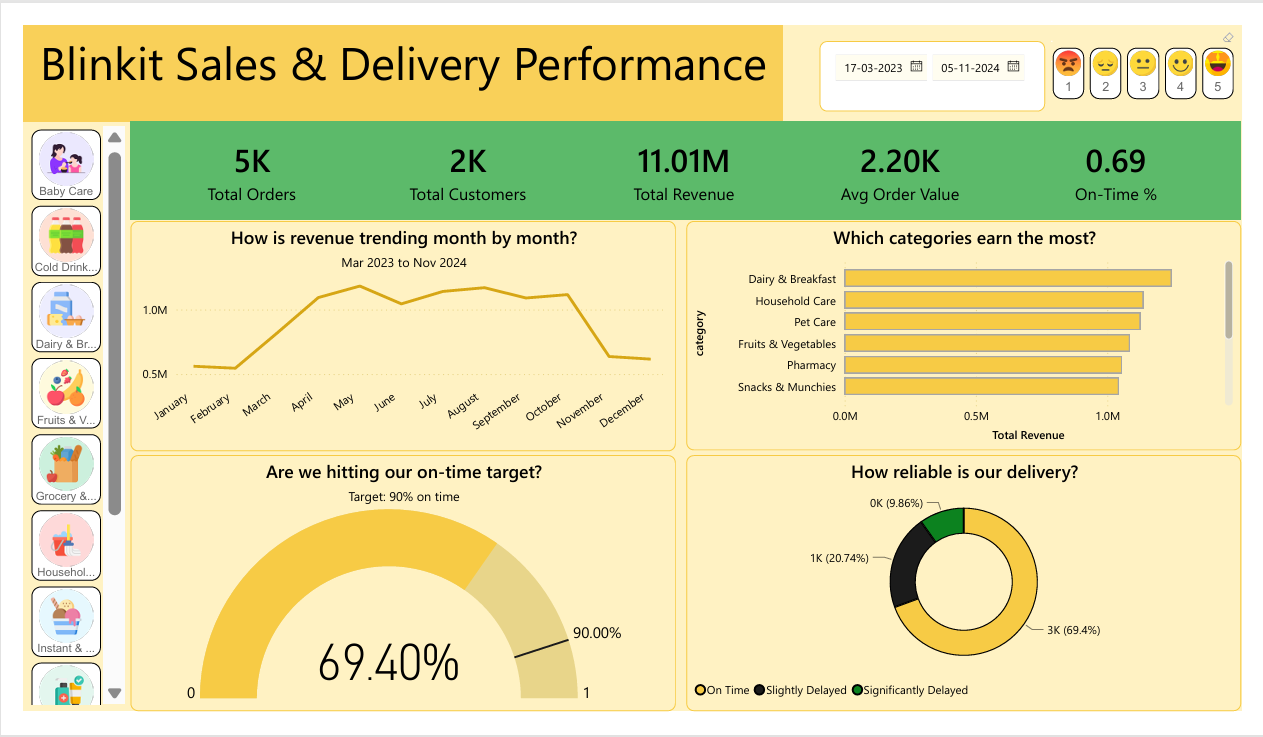

This screenshot's page, from the dashboard's own definition file:
{"tool":"powerbi","page":{"name":"Page 1","canvas":[1280,720],"ordinal":0},"visuals":[{"type":"ChicletSlicer1448559807354","title":"Category","fields":{"Category":["Sheet1 (2).category"],"Image":["Sheet1 (2).Img"]},"box":[0,100.7,111.9,618.9],"z":0},{"type":"textbox","box":[0,0,798,100.7],"z":1000},{"type":"slicer","fields":{"Values":["blinkit_inventory.date"]},"box":[836.3,16,236.7,73.6],"z":2000},{"type":"ChicletSlicer1448559807354","fields":{"Category":["Sheet1.Rating"],"Image":["Sheet1.Emoji"]},"box":[1073,0,206.3,100.7],"z":3000},{"type":"cardVisual","fields":{"Data":["blinkit_customer_feedback.Total Orders","blinkit_customer_feedback.Total Customers","blinkit_customer_feedback.Total Revenue","blinkit_customer_feedback.Avg Order Value","blinkit_customer_feedback.On-Time %"]},"box":[111.9,100.7,1167.4,103.9],"z":4000},{"type":"lineChart","title":"How is revenue trending month by month?","fields":{"Category":["blinkit_orders.order_day.Variation.Date Hierarchy.Month"],"Y":["blinkit_customer_feedback.Total Revenue"]},"box":[111.9,204.7,573,242],"z":5000},{"type":"donutChart","title":"How reliable is our delivery?","fields":{"Category":["blinkit_delivery_performance.delivery_status"],"Y":["blinkit_customer_feedback.Total Orders"]},"box":[695.6,450.9,583.7,268.7],"z":6000},{"type":"clusteredBarChart","title":"Which categories earn the most?","fields":{"Category":["blinkit_products.category"],"Y":["blinkit_customer_feedback.Total Revenue"]},"box":[695.6,204.7,583.7,241.5],"z":7000},{"type":"gauge","title":"Are we hitting our on-time target?","fields":{"MaxValue":["Date.Gauge Max"],"MinValue":["Date.Gauge Min"],"TargetValue":["Date.On-Time Target"],"Y":["blinkit_customer_feedback.On-Time %"]},"box":[111.9,450.9,573,268.7],"z":8000}]}

Visuals, with their boxes on the page's 1280x720 design canvas (x1, y1, x2, y2). These are canvas units, not pixel positions in the 1263x737 screenshot, which may show the page scaled, cropped or inside an application window:
"Category" ChicletSlicer1448559807354: [0, 101, 112, 720]
textbox: [0, 0, 798, 101]
slicer - blinkit_inventory.date: [836, 16, 1073, 90]
ChicletSlicer1448559807354 - Sheet1.Rating x Sheet1.Emoji: [1073, 0, 1279, 101]
cardVisual - blinkit_customer_feedback.Total Orders x blinkit_customer_feedback.Total Customers: [112, 101, 1279, 205]
"How is revenue trending month by month?" lineChart: [112, 205, 685, 447]
"How reliable is our delivery?" donutChart: [696, 451, 1279, 720]
"Which categories earn the most?" clusteredBarChart: [696, 205, 1279, 446]
"Are we hitting our on-time target?" gauge: [112, 451, 685, 720]
